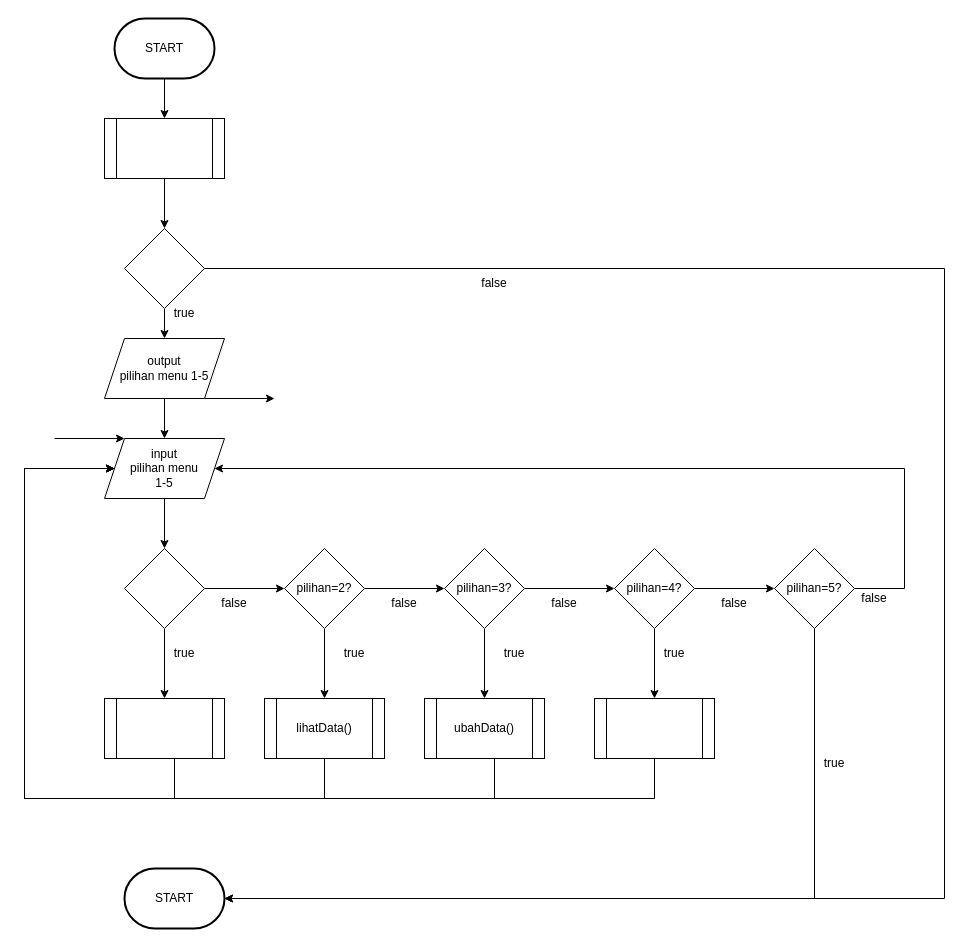
Image size: 970x946. Some labels were removed from this diagram. Here are the shapes that lost their labels. From the top down, the centre of each, then its label:
point 164,148: login()
point 164,268: login berhasil?
point 164,588: pilihan=1?
point 164,728: tambahData()
point 654,728: hapusData()
